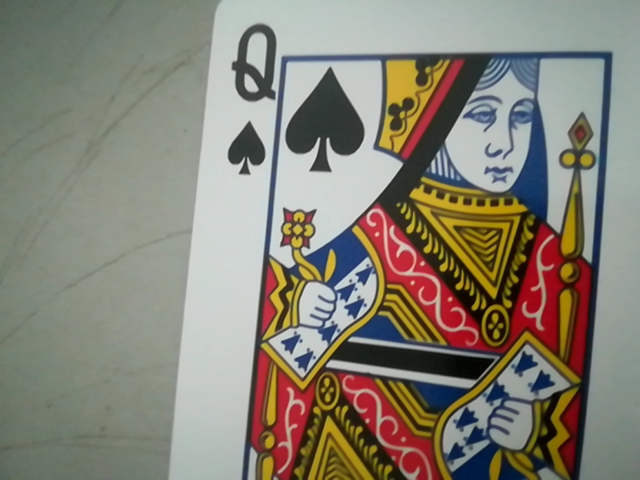ht q: (215, 9, 287, 176)
